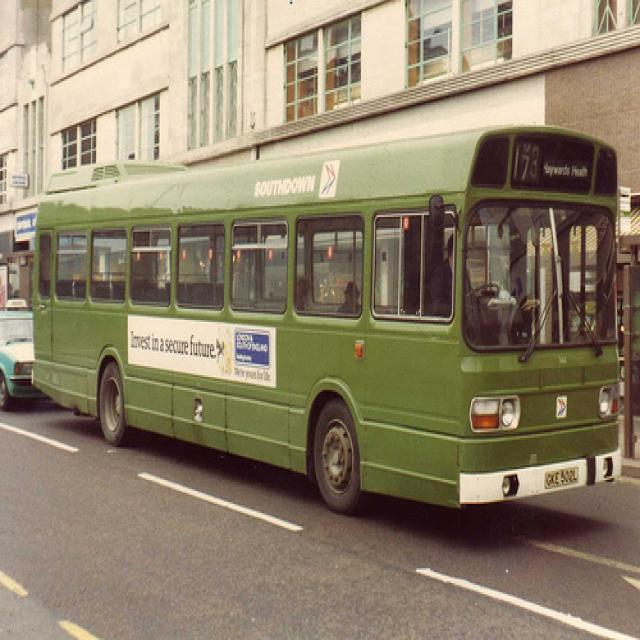light_vehicle: (0, 296, 50, 414)
